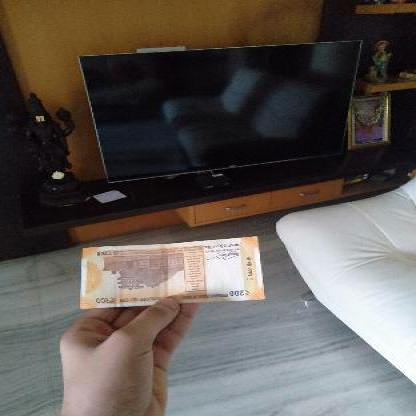New200Back: (79, 236, 265, 306)
